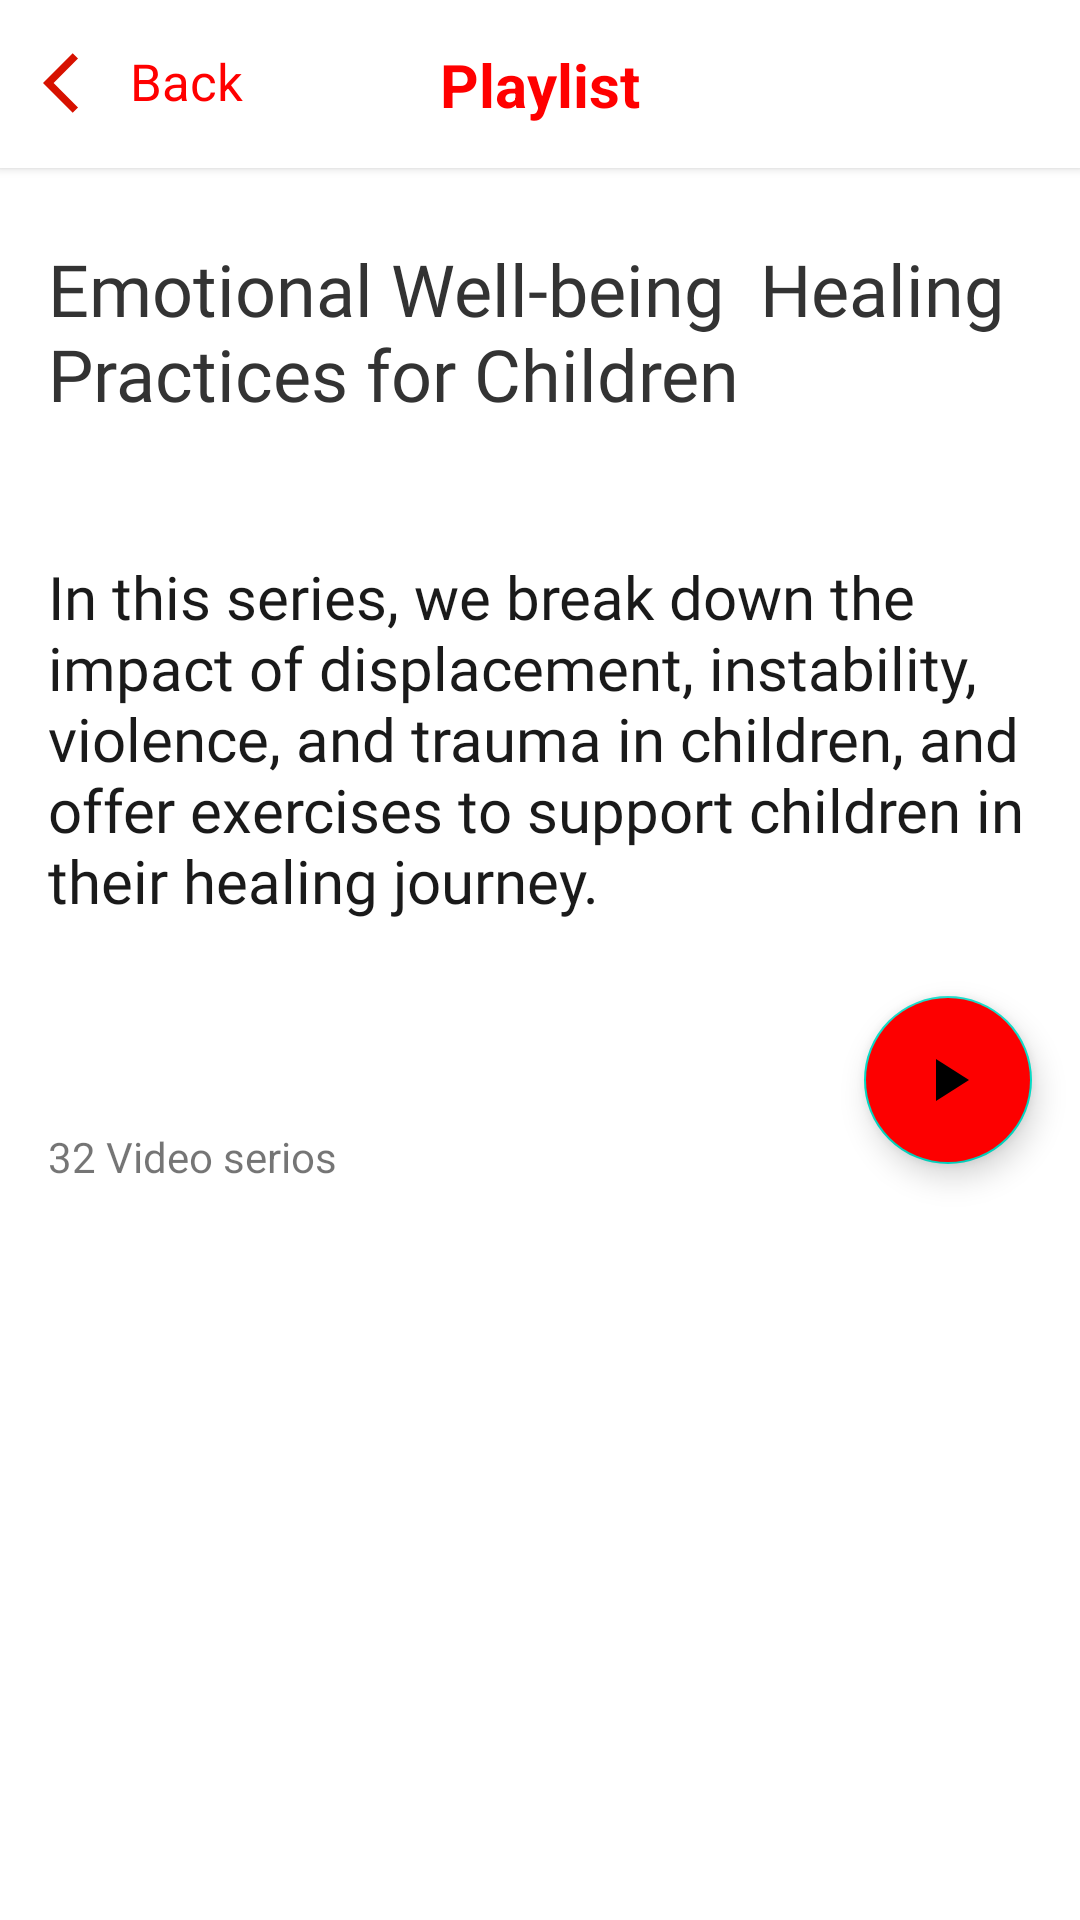

Named icons in this screenshot (1080w x 1920h) and their centers, (x=x, y=y):
play arrow: (x=948, y=1080)
